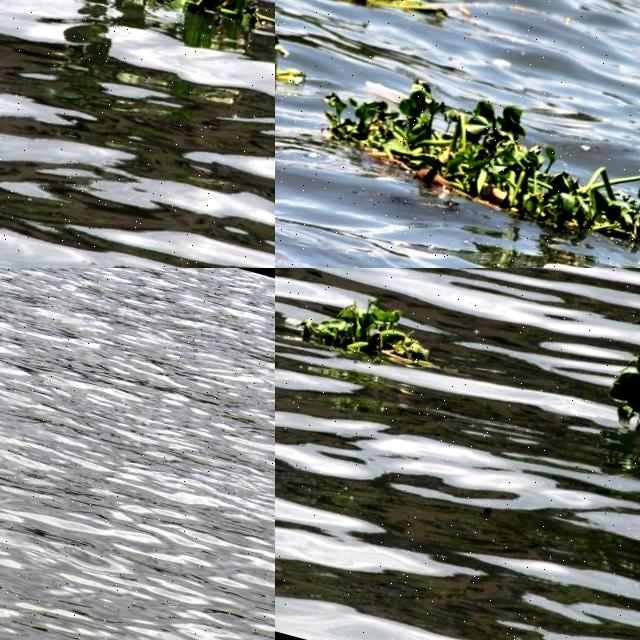water-hyacinth: (296, 51, 640, 269), (67, 1, 276, 82), (303, 284, 441, 380), (315, 1, 457, 40), (603, 318, 640, 462), (276, 29, 313, 103)
